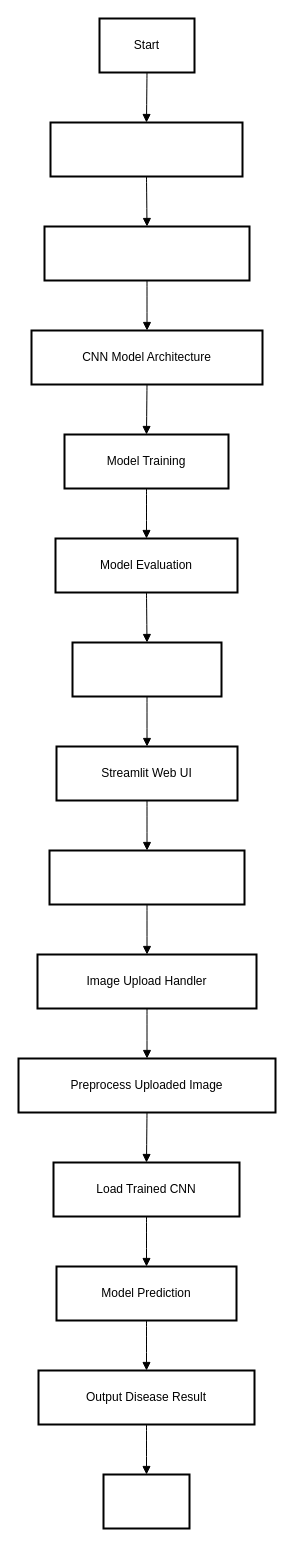
This 293x1546 diagram has some shape labels left out. Here are the shapes that lost their labels. From the top down, the centre of each, then its label:
At (x=146, y=149): "Dataset Collection".
At (x=146, y=253): "Image Preprocessing".
At (x=146, y=669): "Model Saved".
At (x=146, y=877): "Prediction Pipeline".
At (x=146, y=1501): "End".
